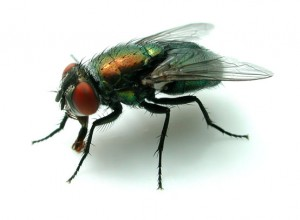green bottles flies: (23, 6, 285, 196)
